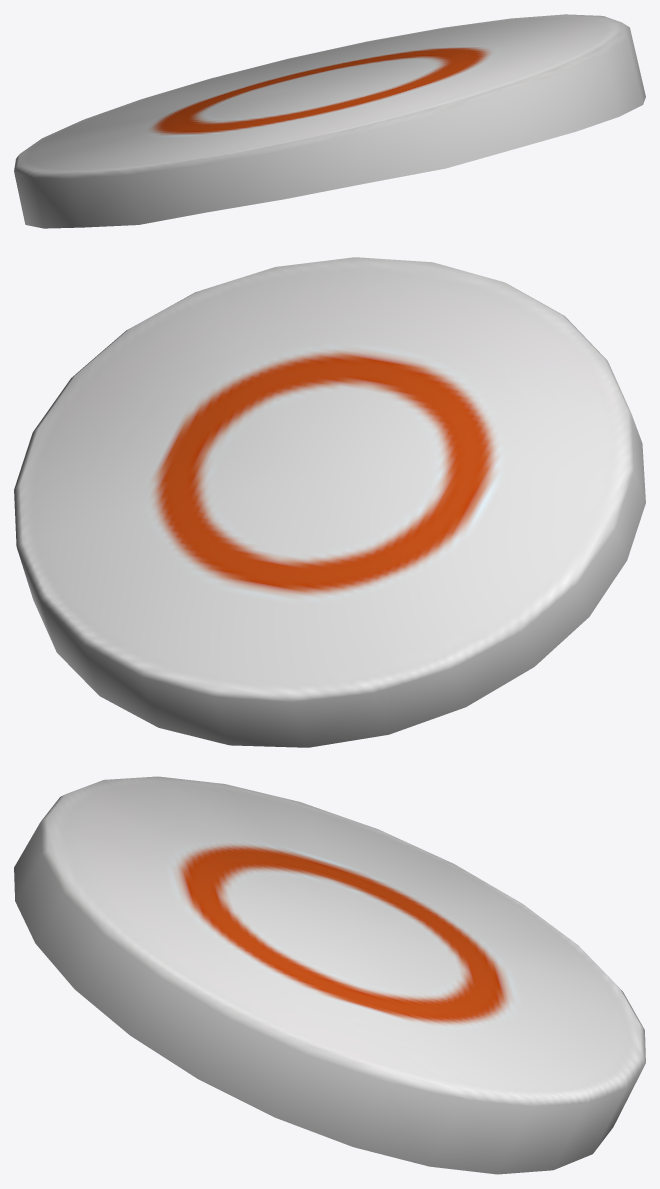
File: left_home_button.obj
3 renders of one model, top to bottom at view 1: azimuth 30°, elevation 25°; view 2: azimuth 150°, elevation 25°; view 3: azimuth 270°, elevation 25°, orthographic. The views are drawn at different scales.
Visible parts, largest first — view 1: left_home_button; view 2: left_home_button; view 3: left_home_button.
Boxes of the visible parts, x1,y1,x2,y2 form: left_home_button: (14, 14, 645, 228); left_home_button: (14, 257, 645, 747); left_home_button: (14, 776, 645, 1174).
Bounding box in the file's own units: 0.00964 × 0.00454 × 0.00941.
Materials: 1 (1 with a texture image).
